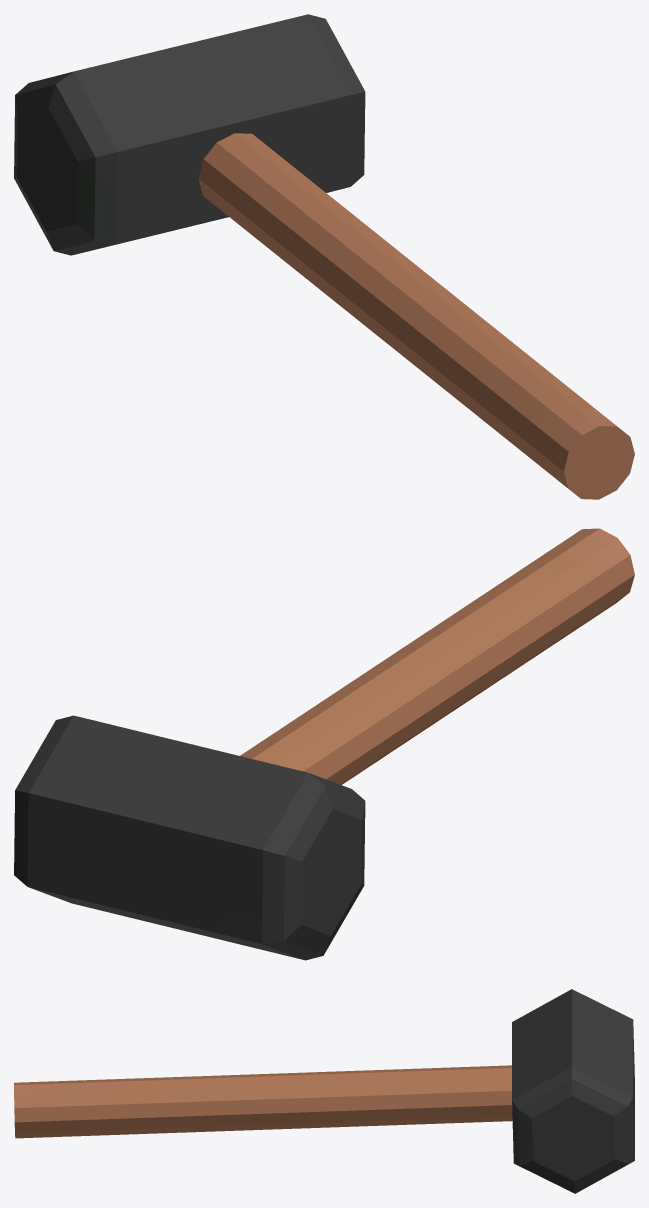
File: Mallet.glb
3 renders of one model, top to bottom at view 1: azimuth 30°, elevation 25°; view 2: azimuth 150°, elevation 25°; view 3: azimuth 270°, elevation 25°, orthographic. The views are drawn at different scales.
Visible parts, largest first — view 1: Mesh1_Group1_Component_1_1_Model; view 2: Mesh1_Group1_Component_1_1_Model; view 3: Mesh1_Group1_Component_1_1_Model.
Part boxes in pixels (bbox=[...]): Mesh1_Group1_Component_1_1_Model: bbox=[14, 14, 634, 499]; Mesh1_Group1_Component_1_1_Model: bbox=[14, 528, 634, 960]; Mesh1_Group1_Component_1_1_Model: bbox=[14, 989, 634, 1193].
Size of the model in its own units: 0.1139 by 0.0712 by 0.3158.
1 material, 1 textured.
